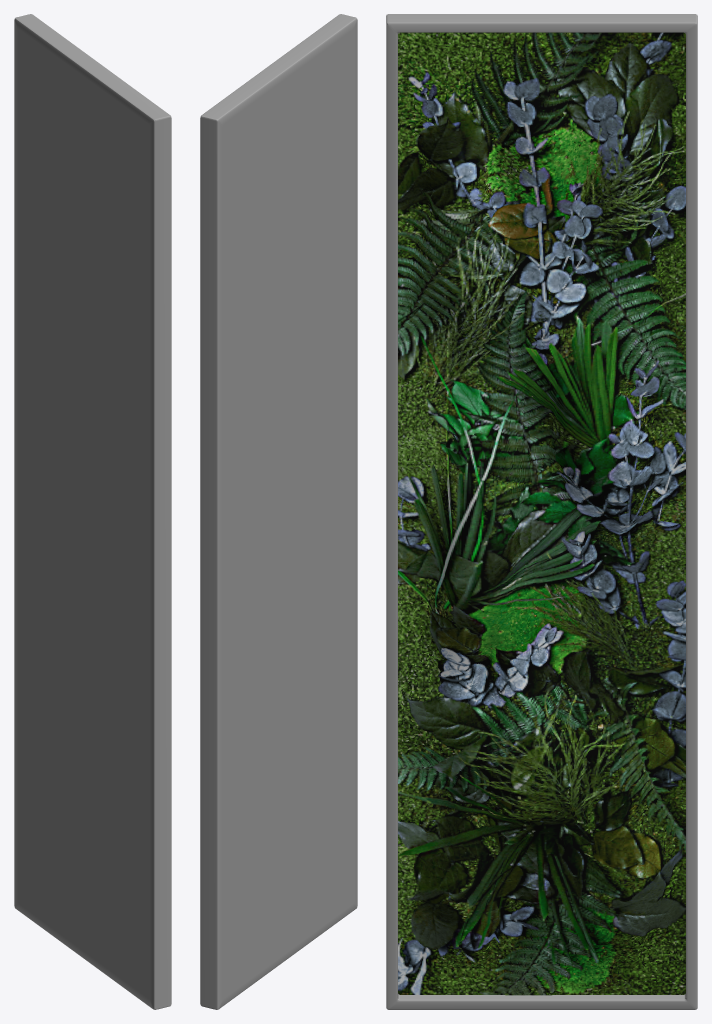
The model's file is tablo_Dschungel_140x40.fbx.
3 renders of one model, left to right at view 1: azimuth 30°, elevation 25°; view 2: azimuth 150°, elevation 25°; view 3: azimuth 270°, elevation 25°, orthographic. The views are drawn at different scales.
Parts seen in each view (by area): view 1: edge; view 2: edge; view 3: moss_, moss_low, edge.
Boxes of the visible parts, x1,y1,x2,y2 form: edge: [14, 14, 171, 1009]; edge: [200, 14, 357, 1009]; moss_: [398, 32, 685, 995]; moss_low: [398, 32, 685, 994]; edge: [386, 14, 697, 1009].
Size of the model in its own units: 5.95 by 140 by 40.
Materials: 2 (1 with a texture image).
